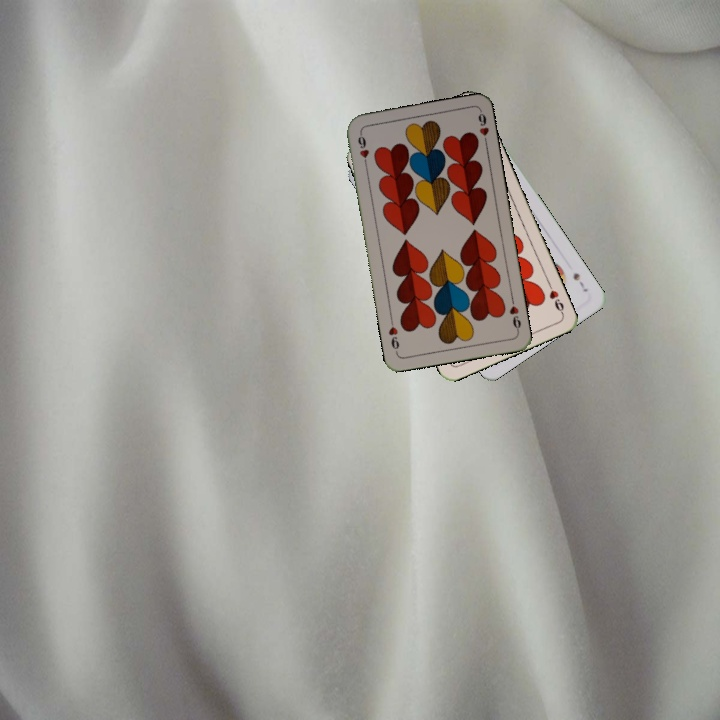H9: (544, 278, 567, 317), (505, 294, 524, 335), (354, 129, 371, 169)
S7: (569, 268, 591, 294)
